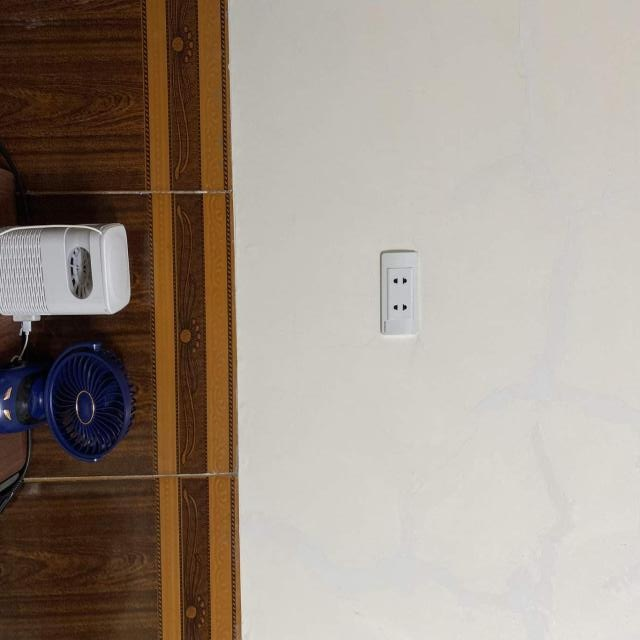outlet: (381, 250, 419, 336)
